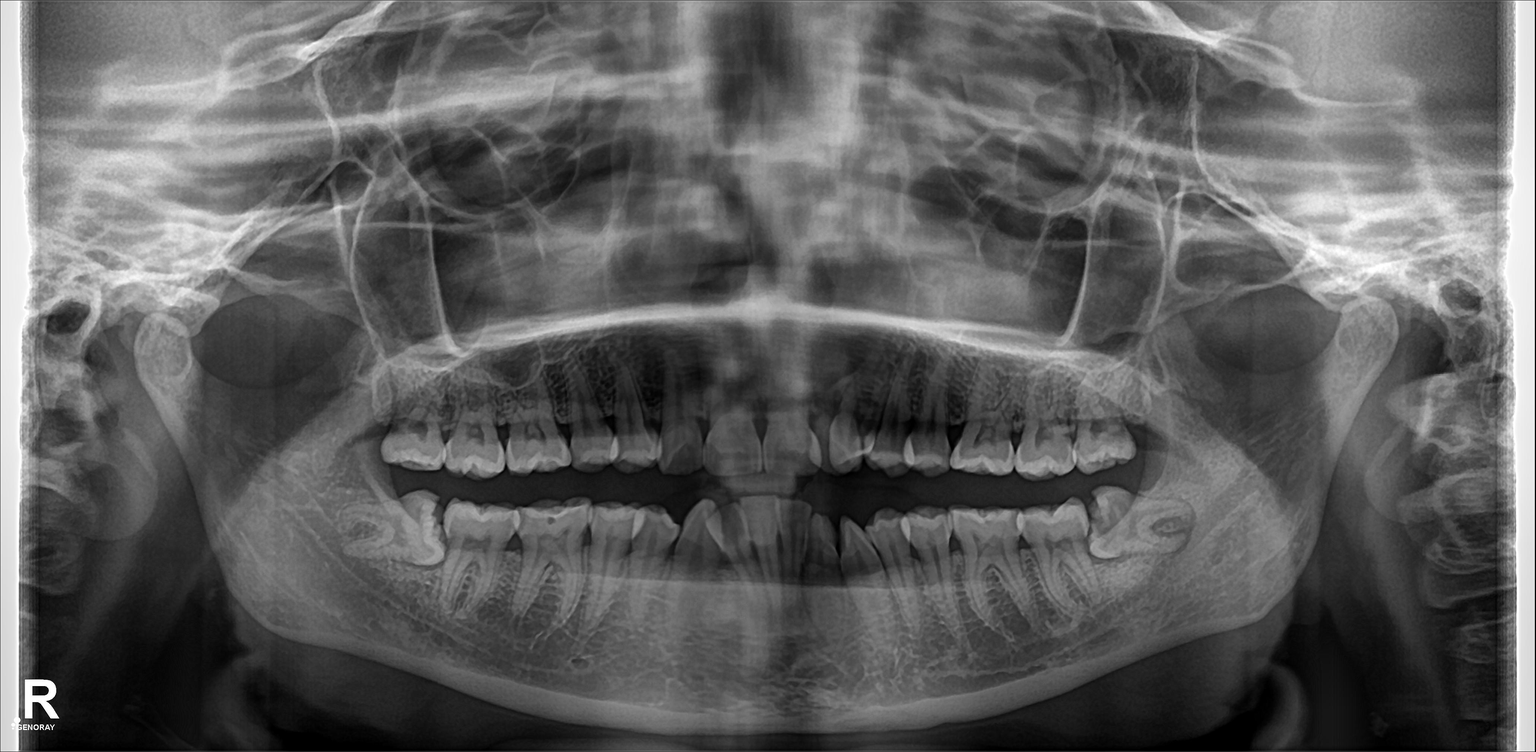Dental Caries: (663, 432, 702, 471)
Impacted Third Molar: (1095, 490, 1199, 563), (343, 497, 442, 565)
